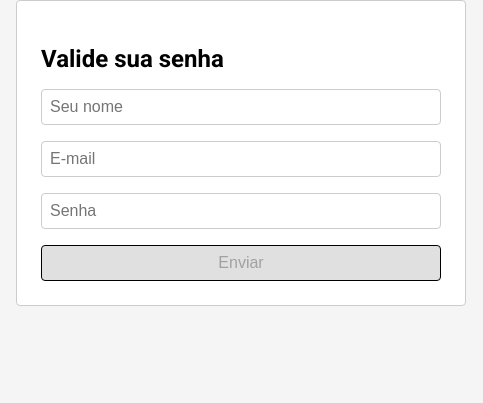
Test case: RegisterForm - E2E › deve mostrar erro ao falhar o envio
Type "Felipe" into the field with placeholder "Seu nome".
click(241, 107); type("Felipe")  # box [41,89,441,125]
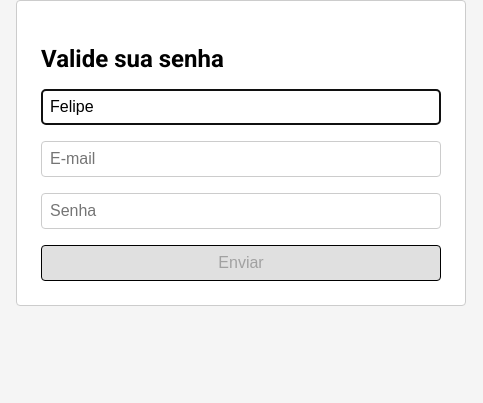
Type "felipe@test.com" into the field with placeholder "E-mail".
click(241, 159); type("felipe@test.com")  # box [41,141,441,177]
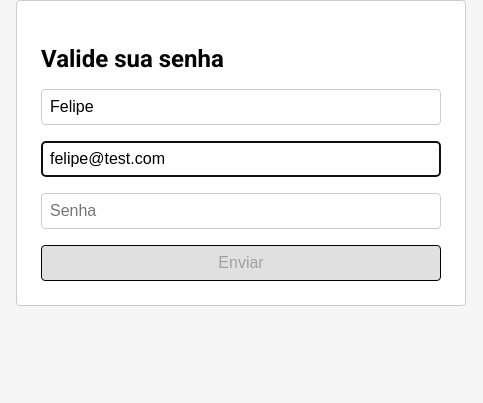
Type "123456" into the password field with placeholder "Senha".
click(241, 211); type("123456")  # box [41,193,441,229]
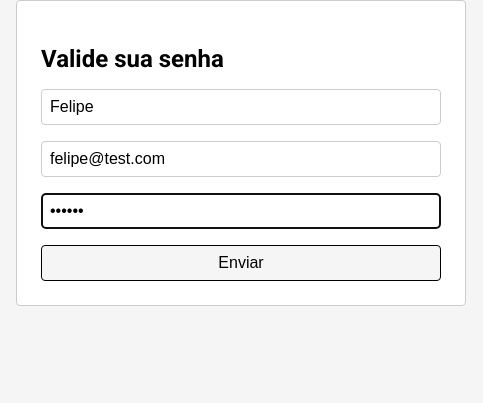
Click the button "Enviar".
click(241, 263)  # box [41,245,441,281]
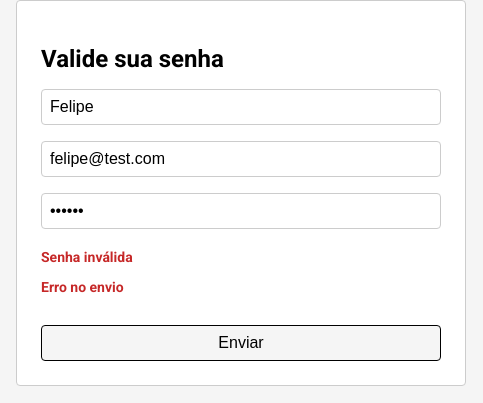
Result: the text "Erro no envio" is shown at [41,279,124,295]
